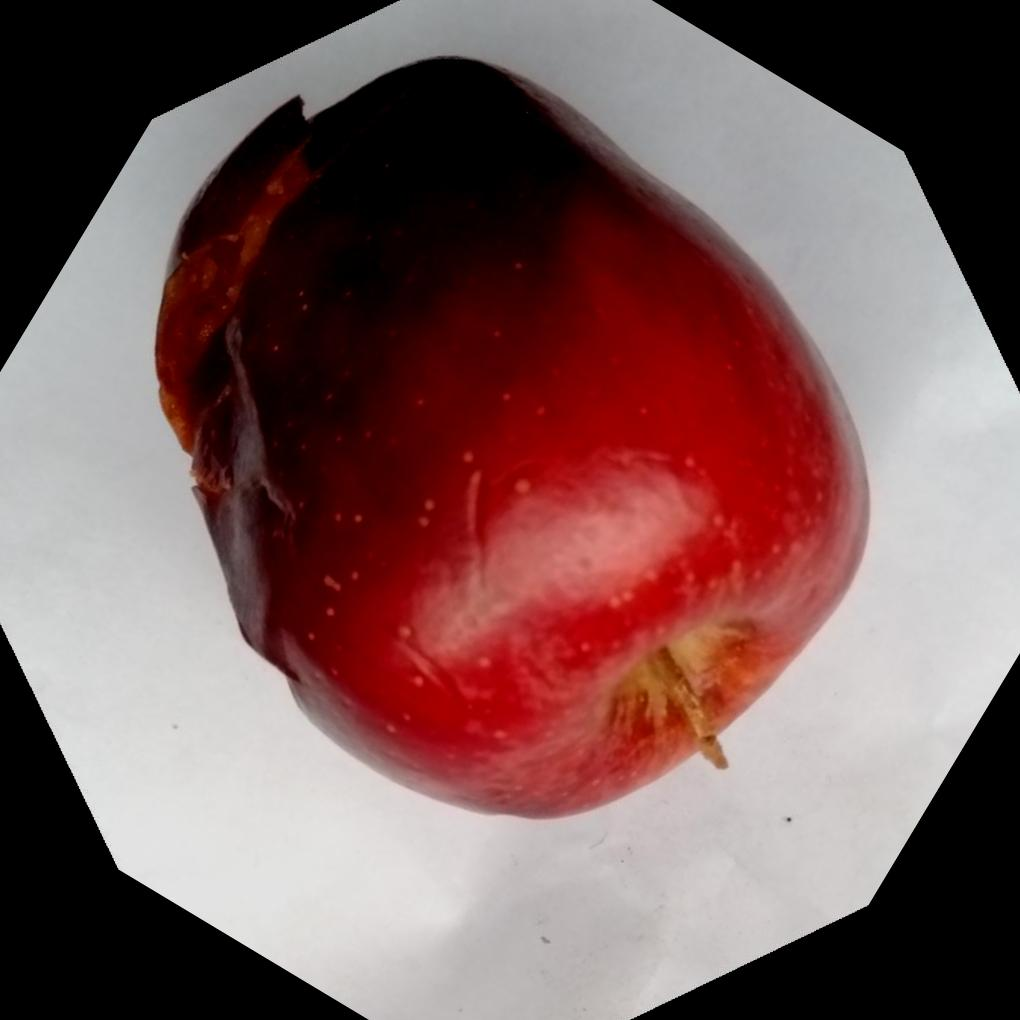FreshOrange: (148, 48, 869, 819)
